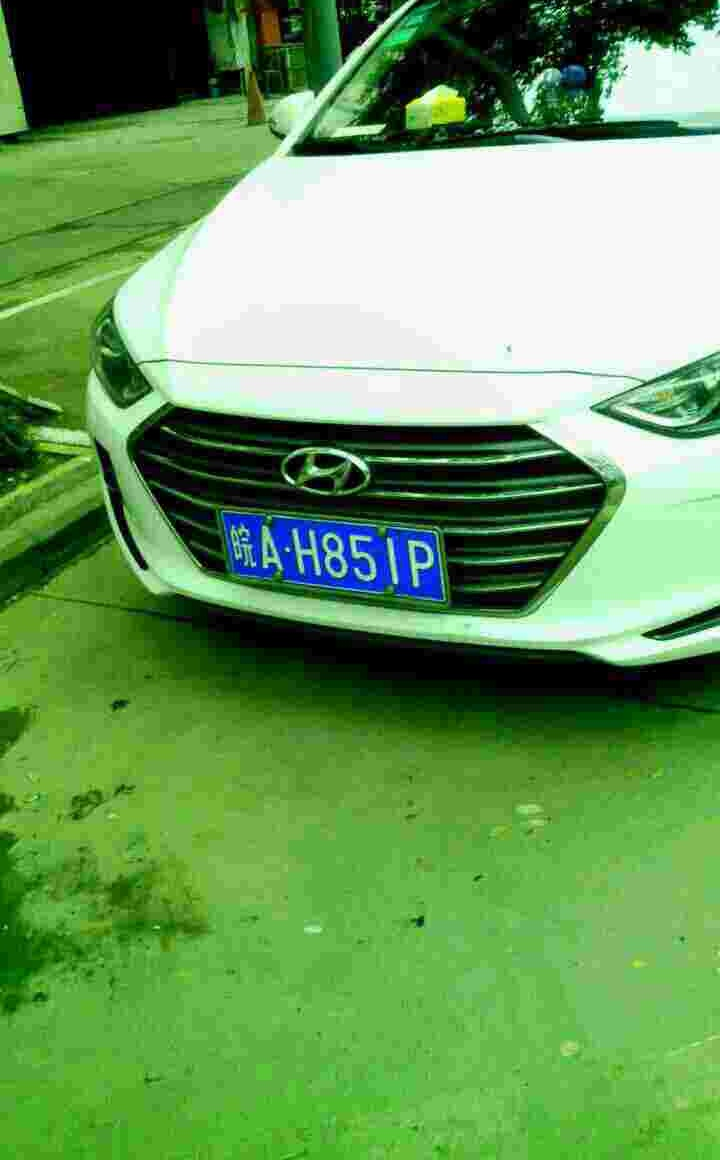plate: (218, 504, 450, 606)
